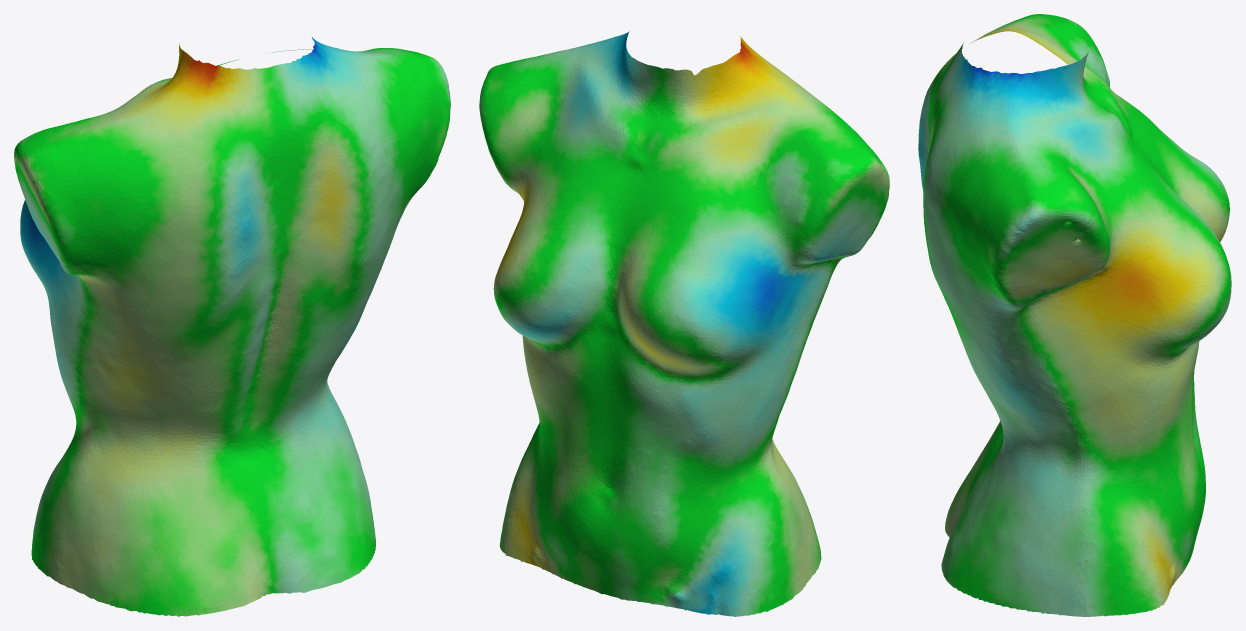
Rendered from backscnr_mesh.glb.
3 renders of one model, left to right at view 1: azimuth 30°, elevation 25°; view 2: azimuth 150°, elevation 25°; view 3: azimuth 270°, elevation 25°, orthographic. The views are drawn at different scales.
Visible parts, largest first — view 1: world; view 2: world; view 3: world.
Boxes of the visible parts, x1,y1,x2,y2 form: world: (14, 37, 450, 616); world: (479, 31, 889, 616); world: (918, 14, 1231, 616).
Bounding box in the file's own units: 385 × 467 × 261.
